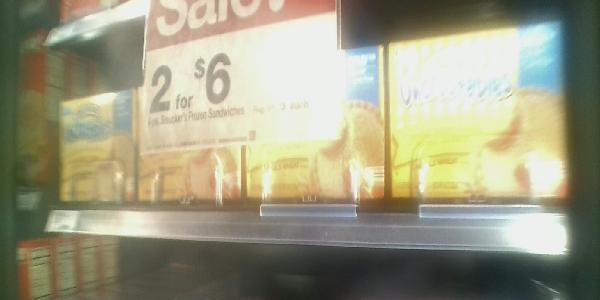icecream: (386, 28, 581, 202), (243, 51, 389, 206), (138, 86, 245, 206), (53, 96, 139, 208)
